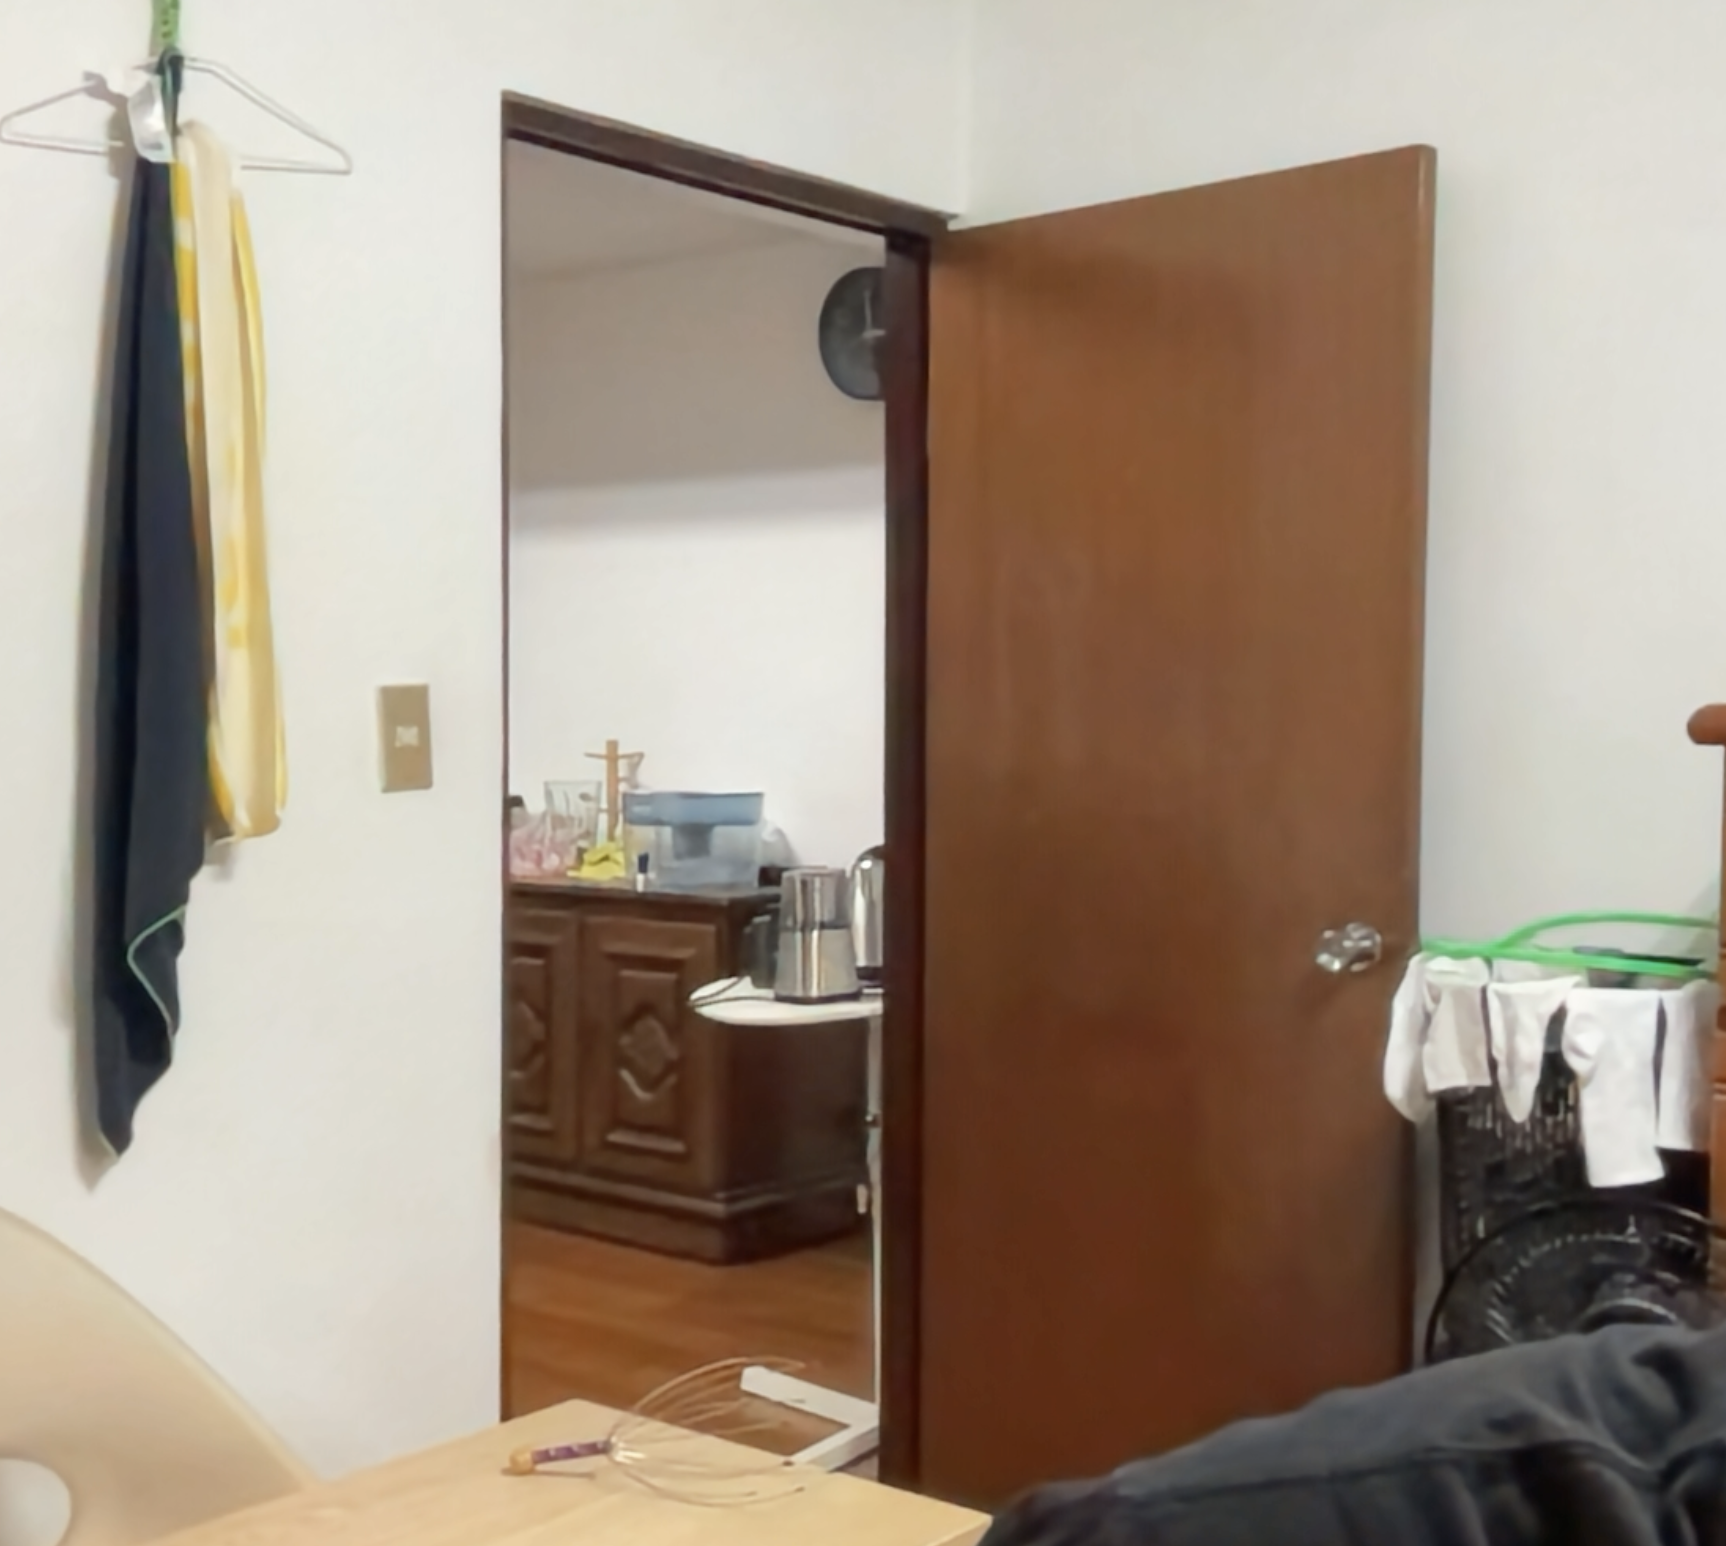Door Open: (431, 69, 1020, 1374)
